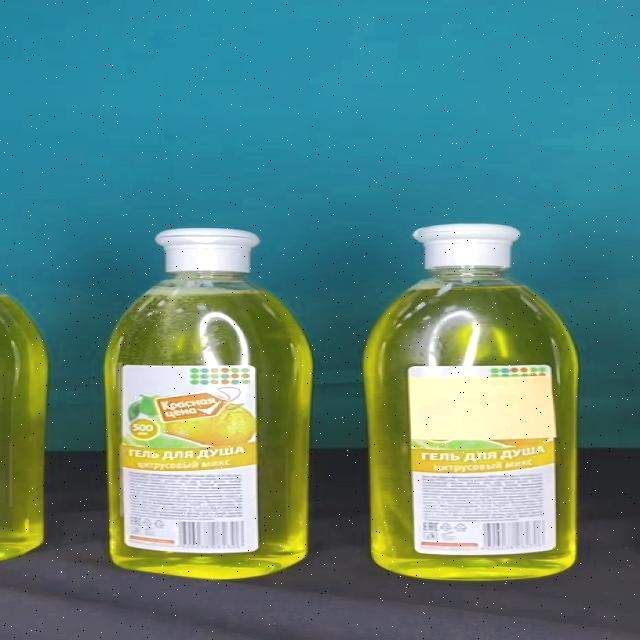Bottle: (362, 224, 578, 580), (105, 228, 312, 580)
Cap: (414, 224, 520, 268), (154, 229, 261, 272)
